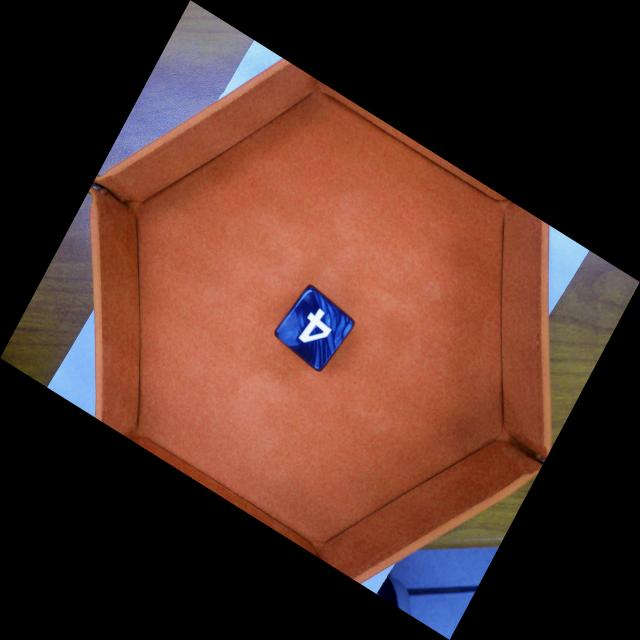dice: (271, 283, 357, 375)
